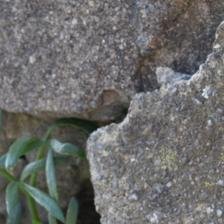Crack: (44, 3, 178, 142)
